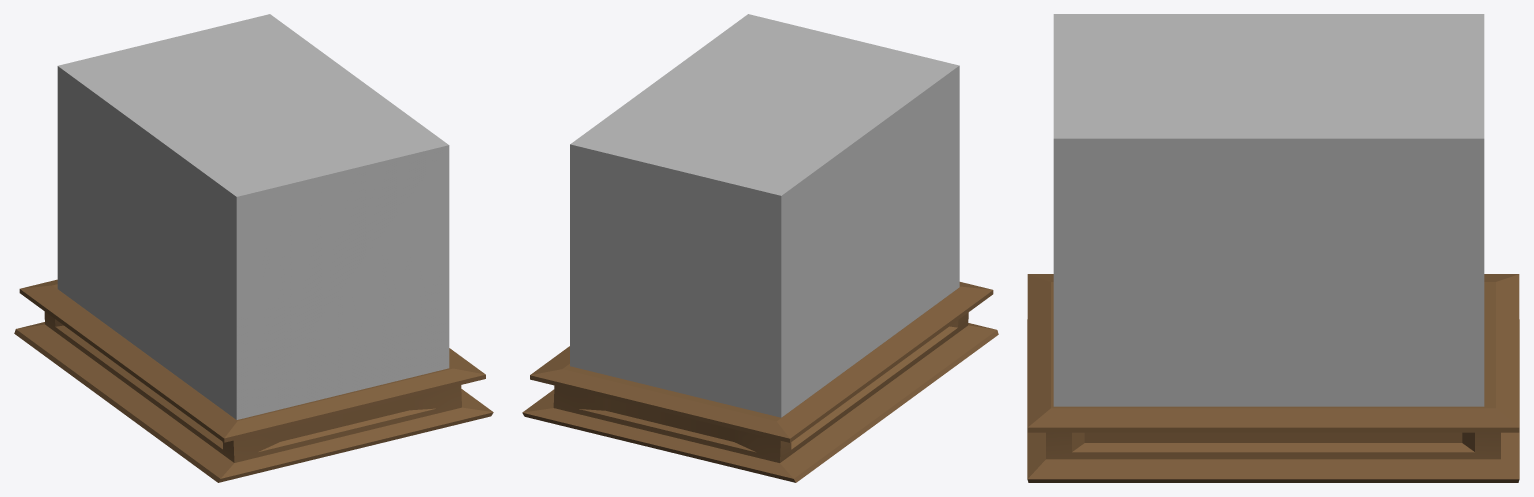
The model's file is medium display stand.fbx.
3 views of the same model, side by side, from view 1: azimuth 30°, elevation 25°; view 2: azimuth 150°, elevation 25°; view 3: azimuth 270°, elevation 25° (orthographic). The views are drawn at different scales.
Parts seen in each view (by area): view 1: pCube87, pCube86; view 2: pCube87, pCube86; view 3: pCube87, pCube86.
Boxes of the visible parts, <box> form: pCube87: <box>57,14,449,419</box>; pCube86: <box>14,279,493,482</box>; pCube87: <box>570,14,959,417</box>; pCube86: <box>522,282,998,482</box>; pCube87: <box>1053,14,1484,406</box>; pCube86: <box>1027,274,1519,482</box>.
Bounding box in the file's own units: 6.43 × 6.06 × 8.29.
